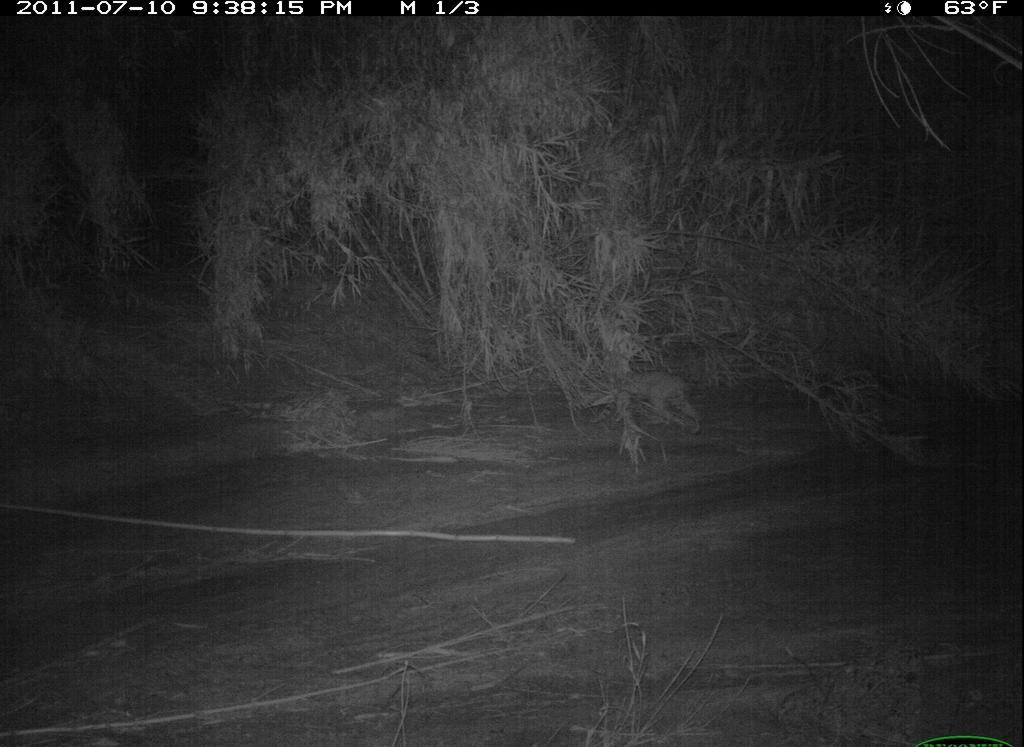bobcat: (589, 356, 708, 438)
